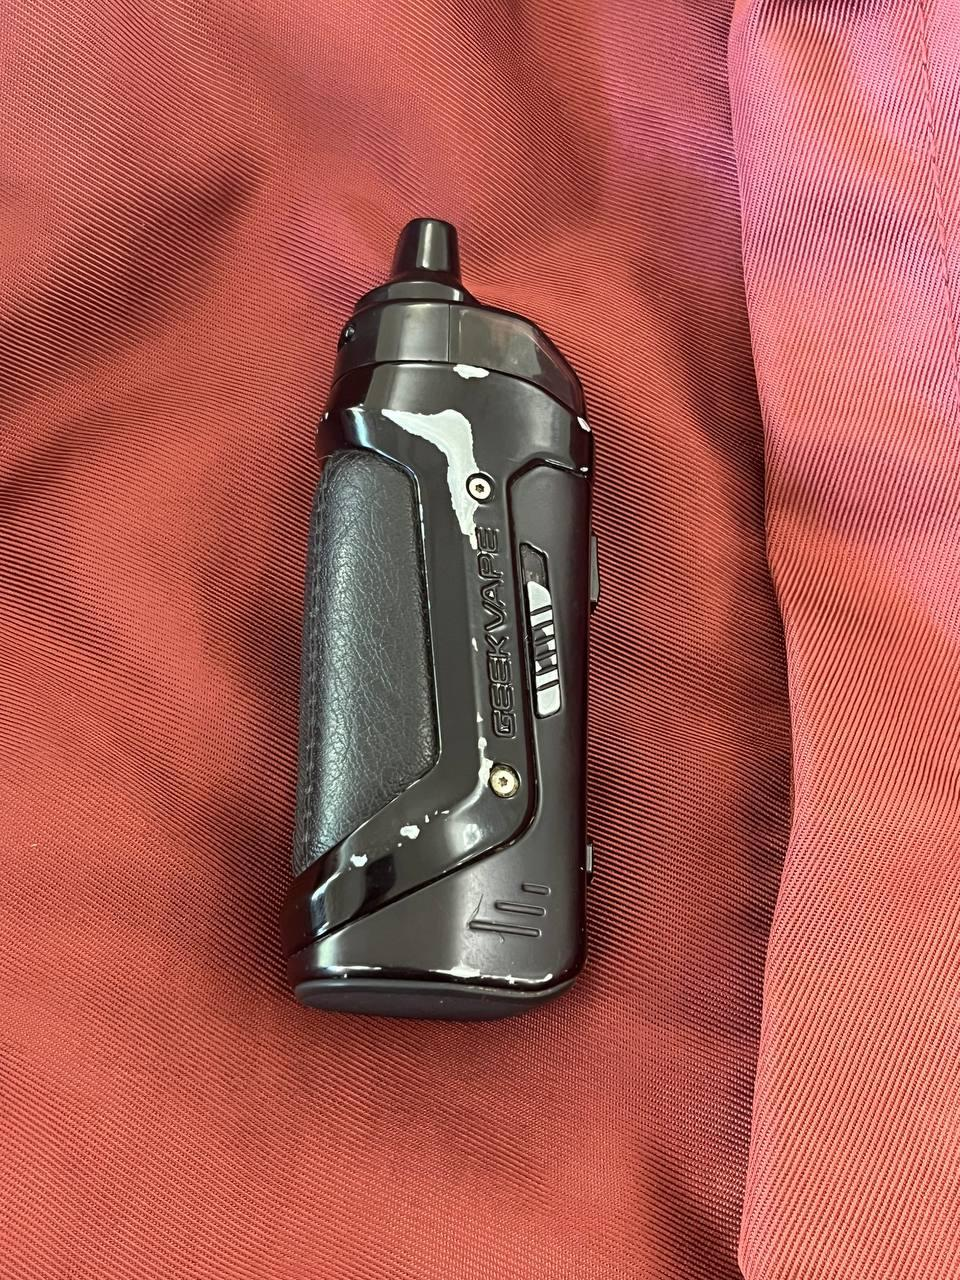Vape: (282, 218, 597, 1018)
